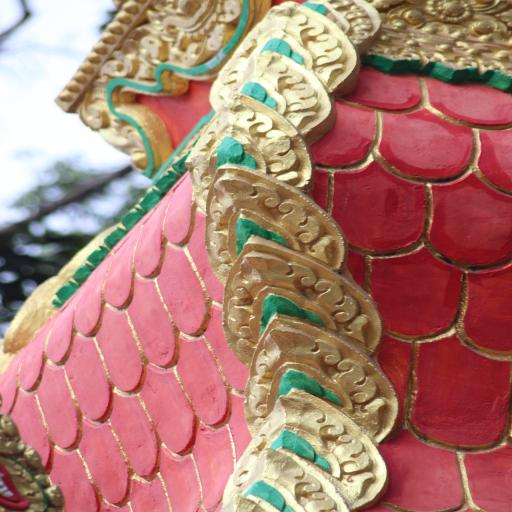la: (222, 232, 380, 349), (247, 316, 396, 437), (204, 163, 346, 267), (258, 392, 378, 499), (231, 2, 355, 90), (195, 96, 320, 178), (207, 56, 328, 128), (220, 444, 344, 512)
